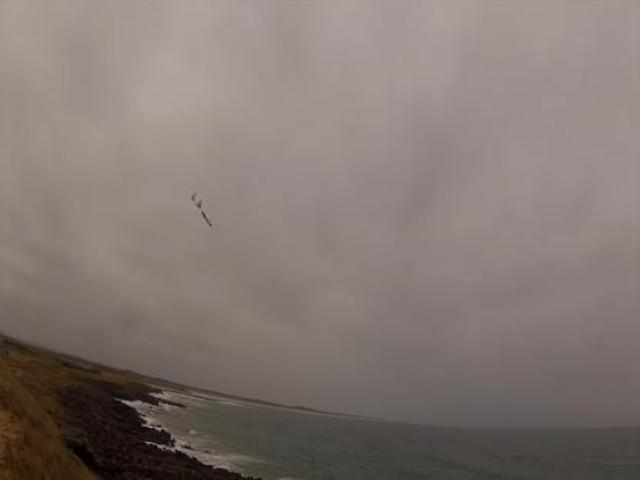uav: (185, 185, 217, 234)
